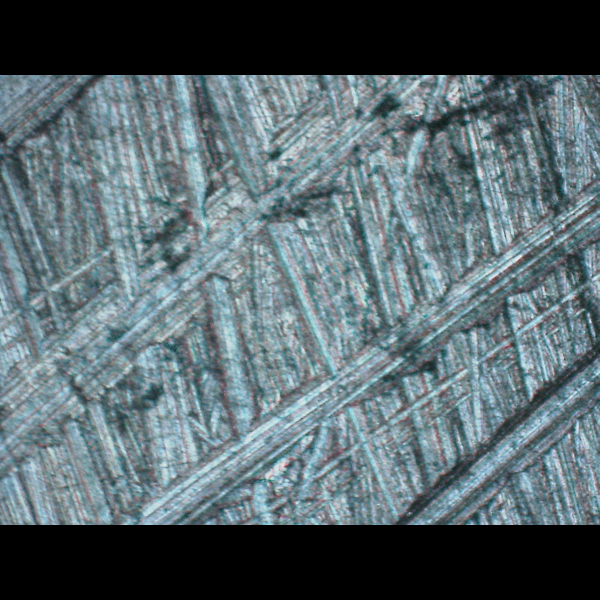d: (149, 177, 600, 524), (383, 339, 600, 524)
